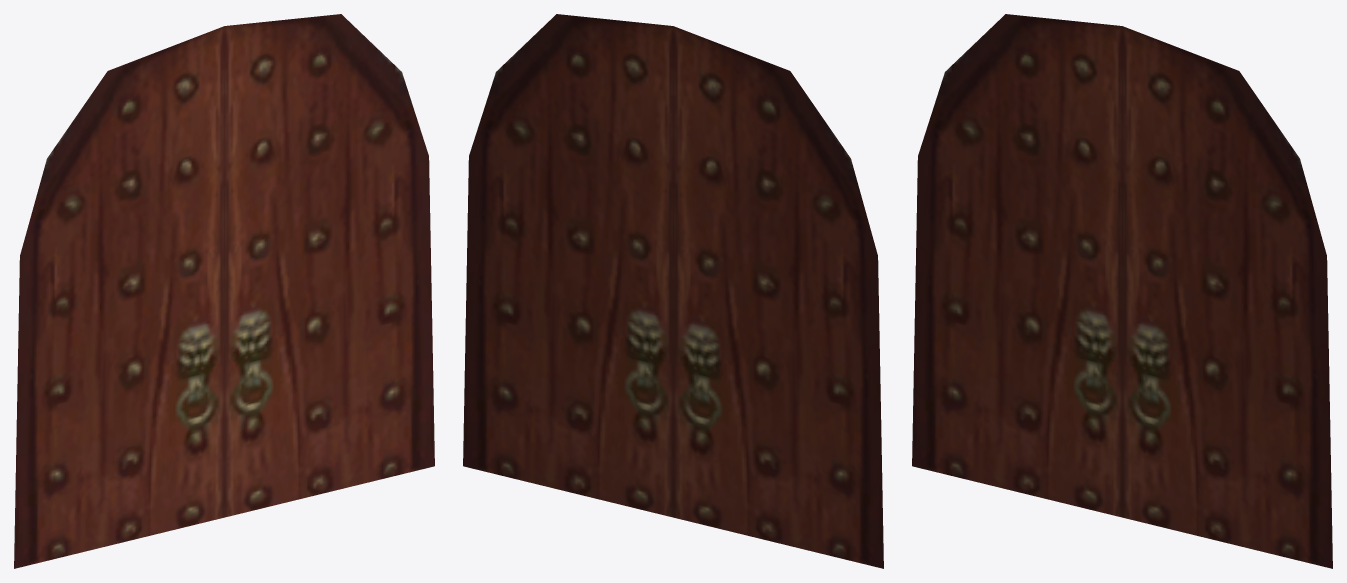
File: 4009_Item_jianzhu_5_men_1.FBX
3 renders of one model, left to right at view 1: azimuth 30°, elevation 25°; view 2: azimuth 150°, elevation 25°; view 3: azimuth 330°, elevation 25°, orthographic.
Parts seen in each view (by area): view 1: 4009_Item_jianzhu_5_men_1; view 2: 4009_Item_jianzhu_5_men_1; view 3: 4009_Item_jianzhu_5_men_1.
Part boxes in pixels (bbox=[...]): 4009_Item_jianzhu_5_men_1: bbox=[14, 14, 434, 568]; 4009_Item_jianzhu_5_men_1: bbox=[463, 14, 883, 568]; 4009_Item_jianzhu_5_men_1: bbox=[912, 14, 1332, 568].
Bounding box in the file's own units: 482 × 7.63e-05 × 537.
